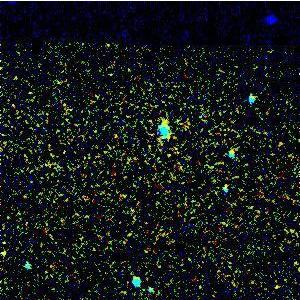star: (148, 108, 178, 138)
